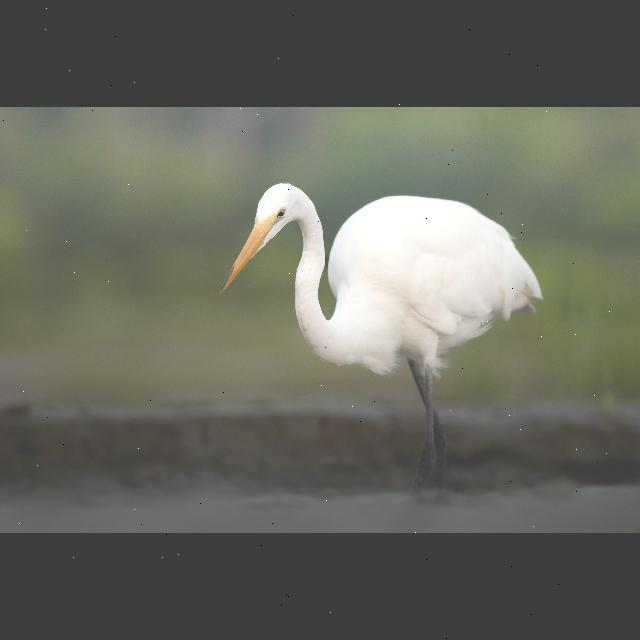egret: (216, 175, 548, 477)
